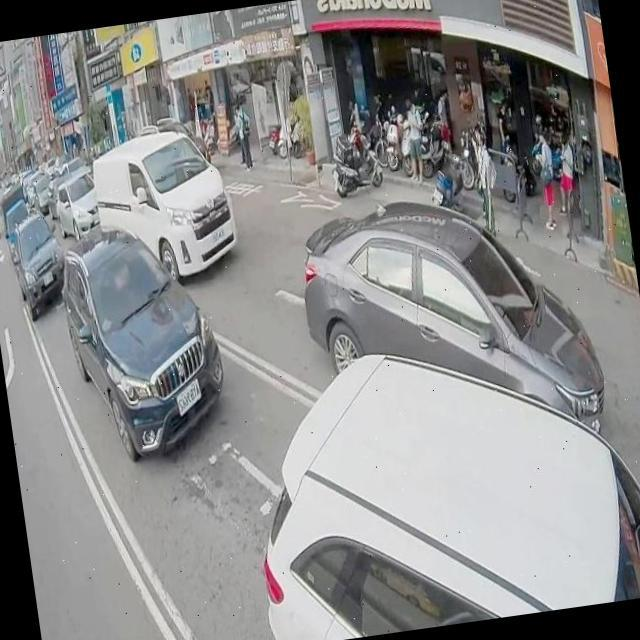person: (530, 130, 563, 236), (474, 127, 506, 232), (552, 125, 584, 224), (401, 96, 433, 185), (234, 98, 258, 169), (435, 90, 456, 150)
